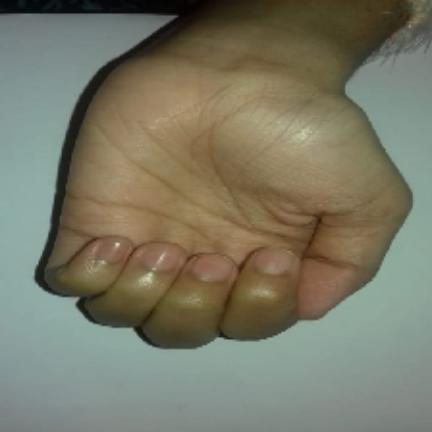Nail: (141, 242, 181, 271), (193, 253, 233, 282), (253, 247, 293, 275), (98, 236, 131, 263)
